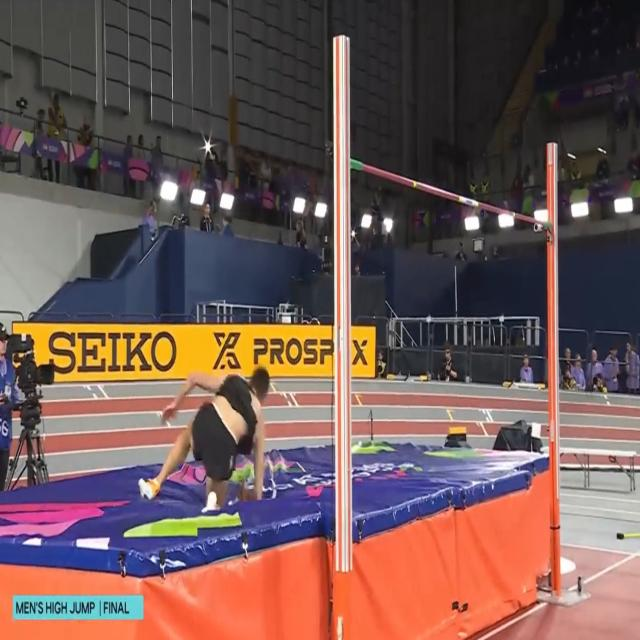land: (139, 369, 269, 510)
